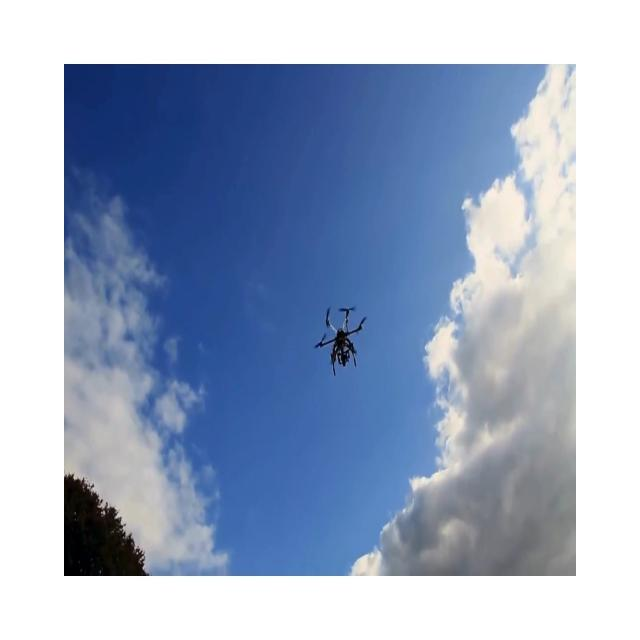drone: (314, 305, 366, 376)
